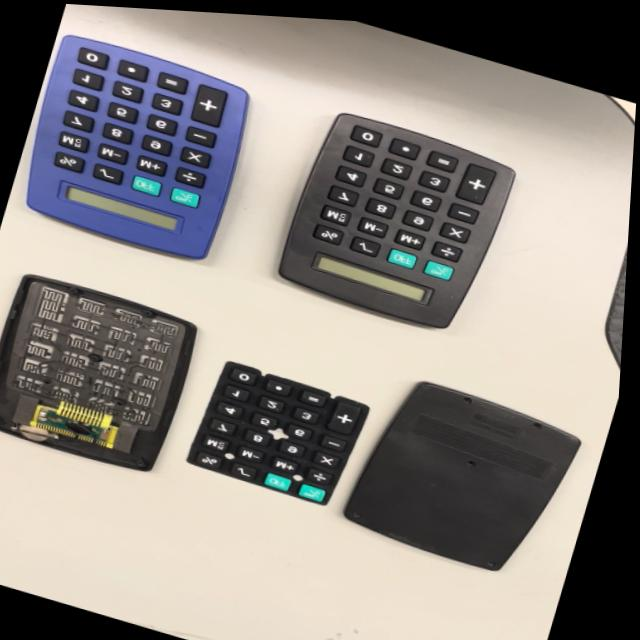back_cover: (337, 364, 594, 591)
calculator: (268, 99, 531, 347), (9, 28, 264, 272)
front_panel: (0, 265, 208, 483)
number_pad: (173, 351, 377, 517)
